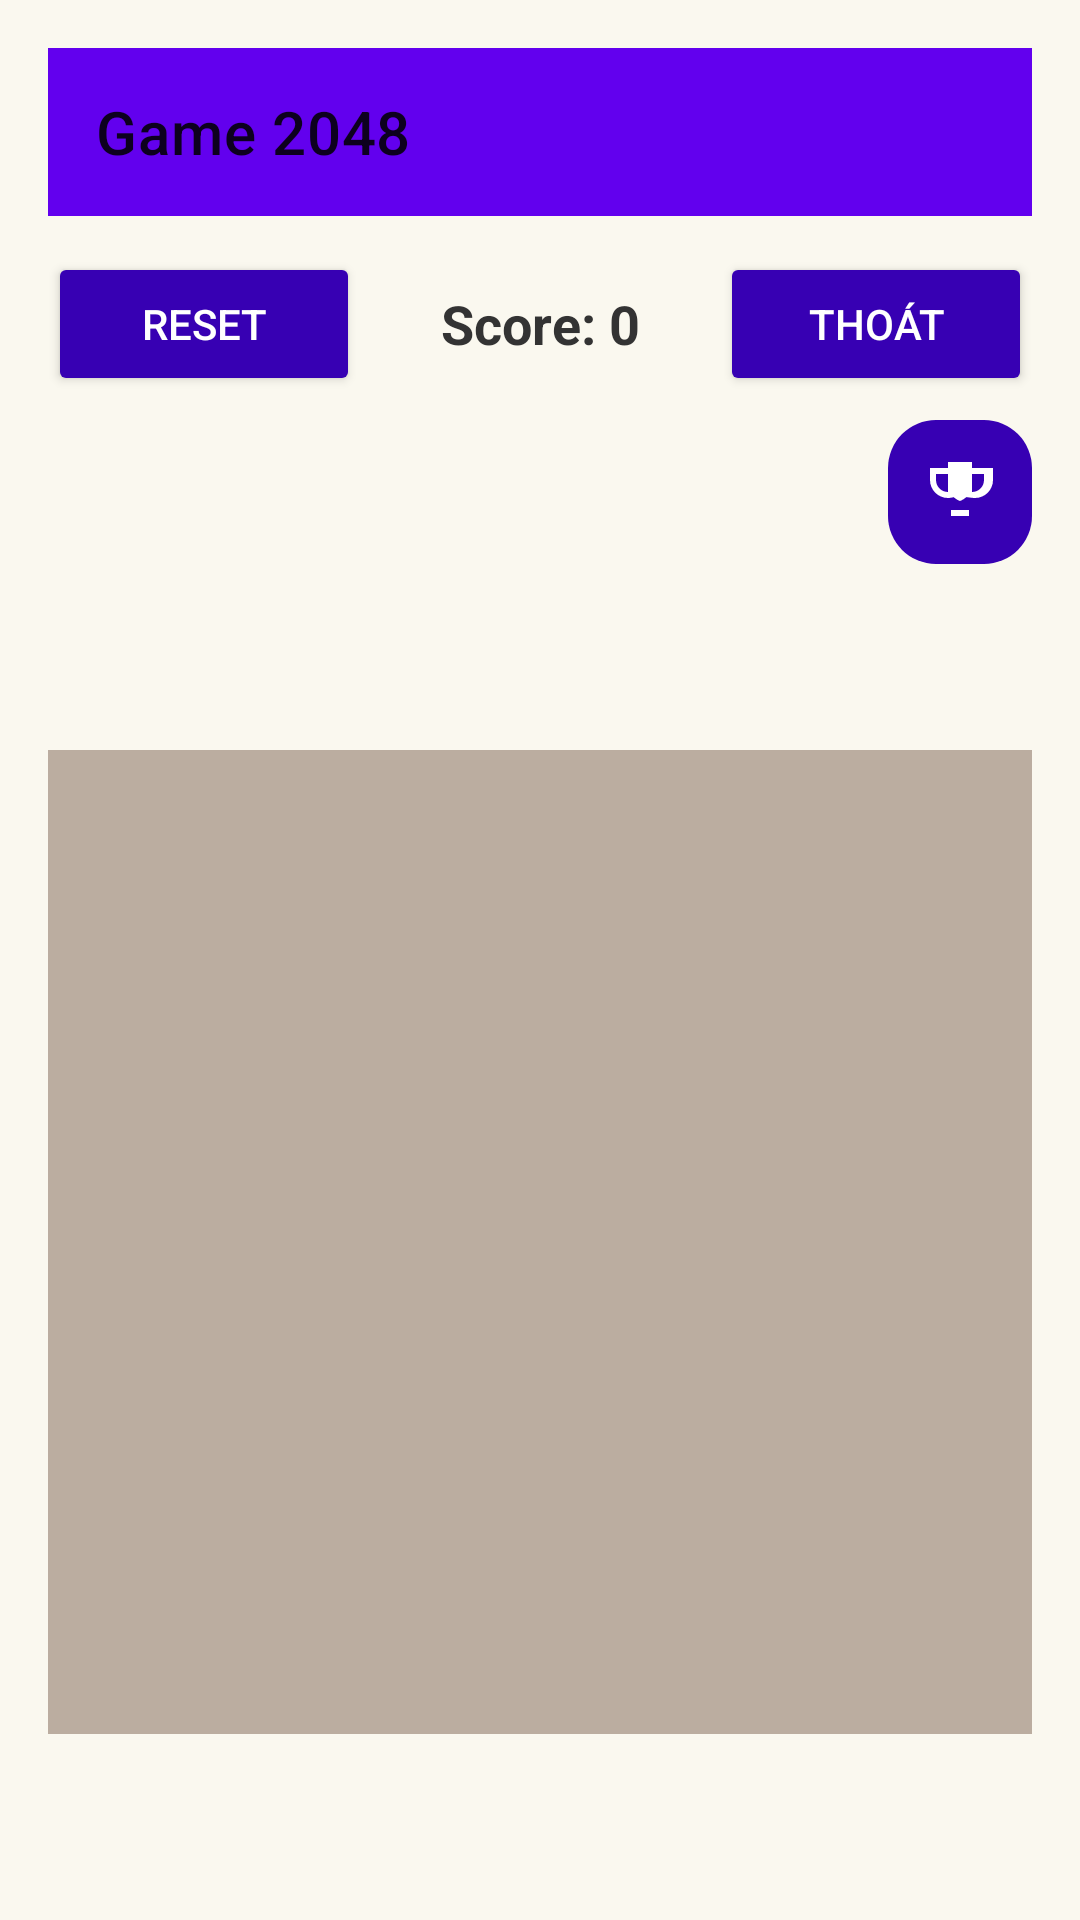

Named icons in this screenshot (1080px x 1920px) and their centers, (x,y):
Leaderboard: (960,492)
